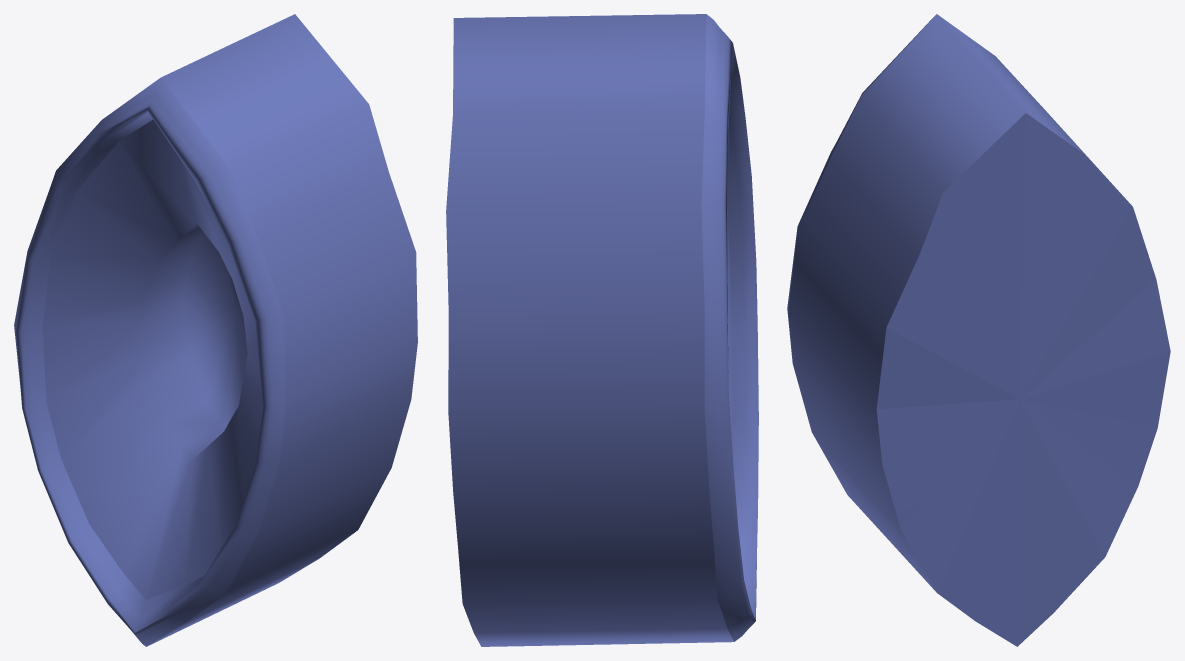
Rendered from BL5_8shapes_Marquise_Classic_Metal.001 3.glb.
3 renders of one model, left to right at view 1: azimuth 30°, elevation 25°; view 2: azimuth 150°, elevation 25°; view 3: azimuth 270°, elevation 25°, orthographic. The views are drawn at different scales.
Parts seen in each view (by area): view 1: BL5_8shapes_Marquise_Classic_Metal.001; view 2: BL5_8shapes_Marquise_Classic_Metal.001; view 3: BL5_8shapes_Marquise_Classic_Metal.001.
Part boxes in pixels (<box>): BL5_8shapes_Marquise_Classic_Metal.001: <box>14,14,417,646</box>; BL5_8shapes_Marquise_Classic_Metal.001: <box>446,14,758,646</box>; BL5_8shapes_Marquise_Classic_Metal.001: <box>787,14,1170,646</box>.
Bounding box in the file's own units: 0.3997 × 0.7055 × 0.4399.
